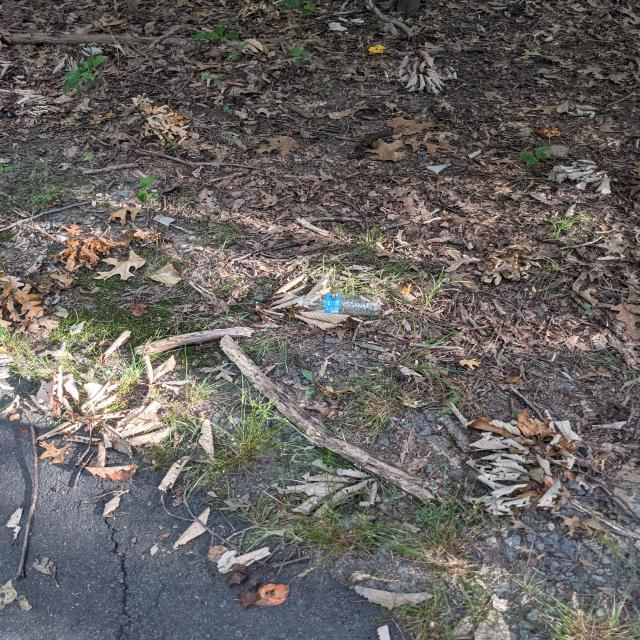litter: (298, 293, 381, 316)
